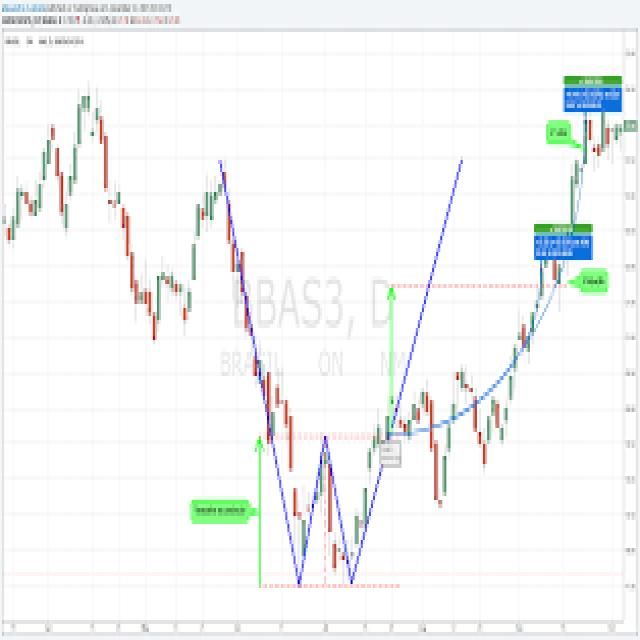fundo_duplo: (250, 356, 404, 599), (107, 235, 215, 361)
